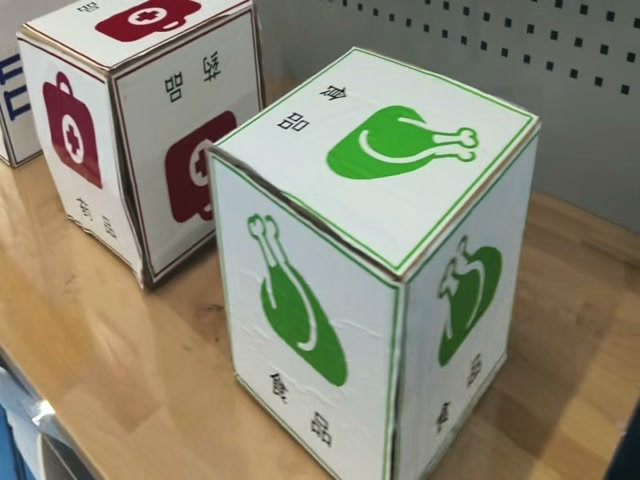Cube_food: (217, 60, 543, 293)
Cube_medicine: (20, 0, 253, 78)
